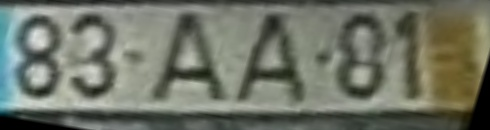1: (393, 10, 423, 105)
3: (68, 13, 122, 104)
8: (332, 13, 394, 104), (11, 13, 66, 106)
A: (145, 12, 234, 106), (234, 13, 312, 107)
